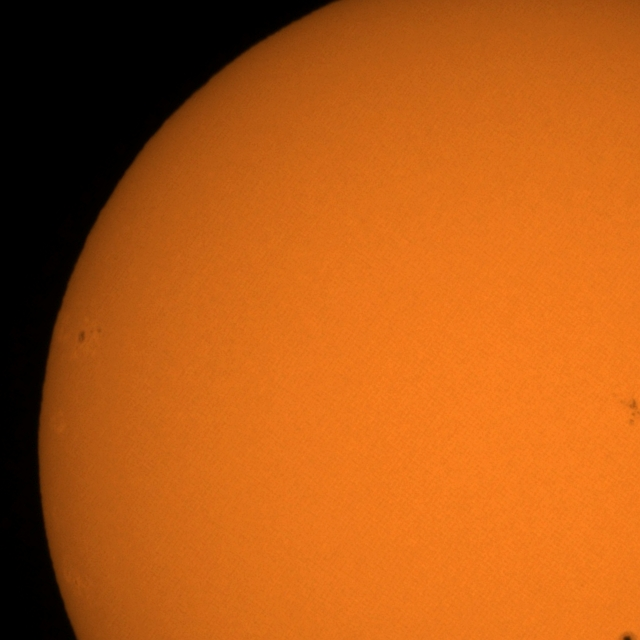sunspot: (620, 397, 640, 429), (77, 326, 103, 345), (618, 630, 638, 640), (77, 329, 88, 344)
